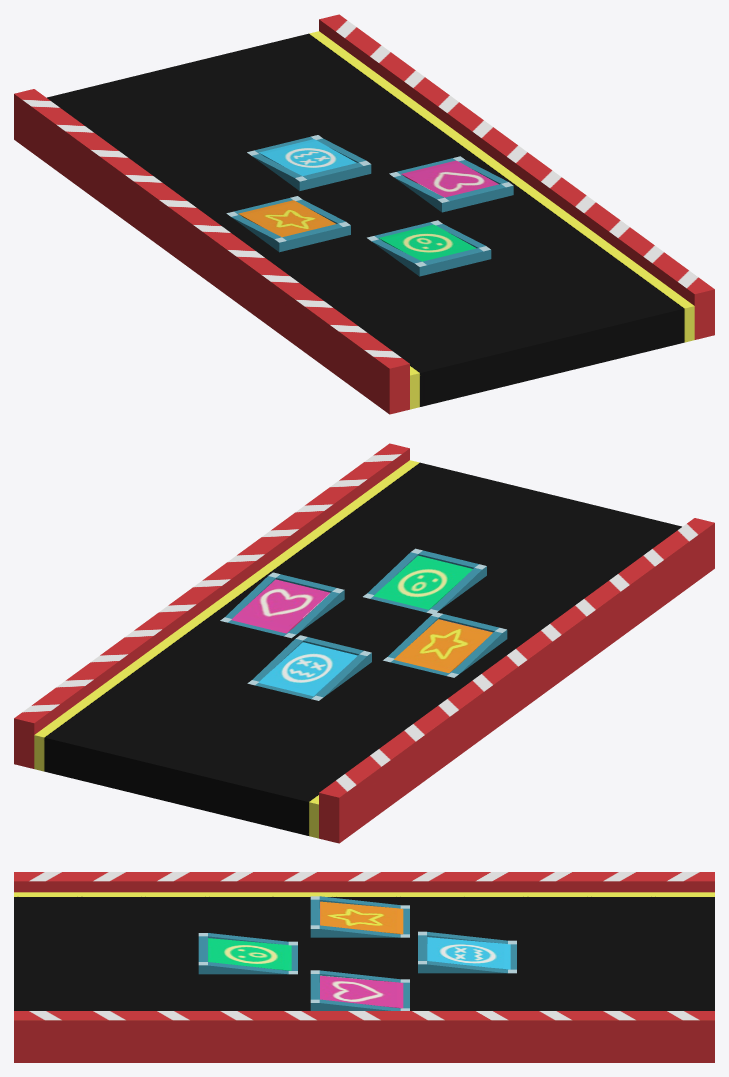
The model's file is Special track - Launchers.fbx.
The picture shows the model from 3 angles, top to bottom: view 1: azimuth 30°, elevation 25°; view 2: azimuth 150°, elevation 25°; view 3: azimuth 270°, elevation 25°; orthographic projection. The views are drawn at different scales.
Visible parts, largest first — view 1: Special track - launcher, Green flipper, Orange flipper, Pink flipper, Blue flipper; view 2: Special track - launcher, Pink flipper, Blue flipper, Orange flipper, Green flipper; view 3: Special track - launcher, Orange flipper, Pink flipper, Green flipper, Blue flipper.
Boxes of the visible parts, x1,y1,x2,y2 form: Special track - launcher: (14, 14, 714, 414); Green flipper: (379, 224, 476, 261); Orange flipper: (238, 200, 335, 237); Pink flipper: (401, 160, 498, 197); Blue flipper: (259, 139, 356, 175); Special track - launcher: (14, 443, 714, 843); Pink flipper: (231, 579, 330, 633); Blue flipper: (258, 642, 357, 696); Orange flipper: (394, 619, 492, 672); Green flipper: (373, 555, 472, 609); Special track - launcher: (14, 872, 714, 1062); Orange flipper: (320, 901, 403, 934); Pink flipper: (320, 975, 403, 1008); Green flipper: (208, 938, 291, 970); Blue flipper: (427, 937, 510, 969).
Bounding box in the file's own units: 50 × 6.73 × 100.
